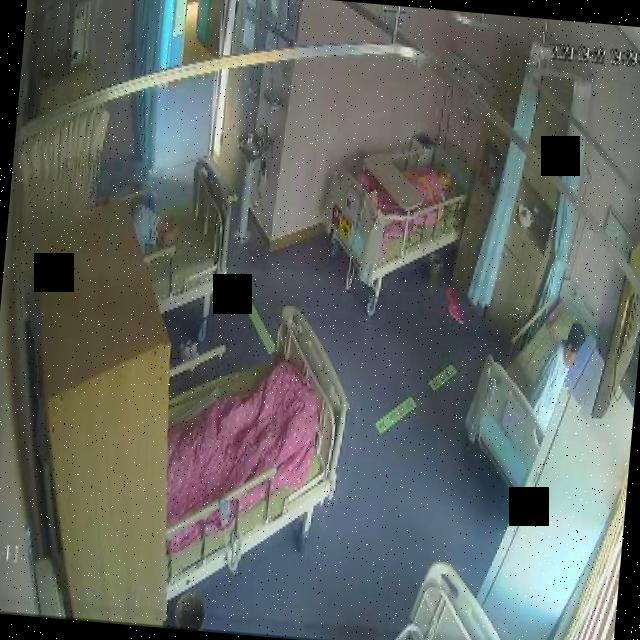bed: (153, 296, 356, 576), (306, 114, 474, 316), (458, 291, 593, 504), (125, 152, 238, 320)
patient: (518, 298, 580, 436)
stand: (519, 297, 581, 438)
